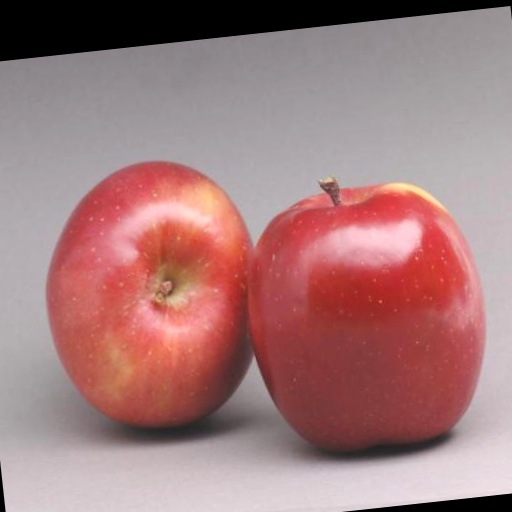fruit: (247, 179, 484, 451), (46, 162, 251, 427)
